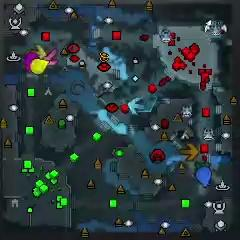p1: (195, 166, 211, 188)
p3: (25, 51, 39, 74)
p4: (31, 58, 48, 74)
x1: (45, 47, 59, 66)
x2: (28, 43, 46, 59)
x3: (128, 96, 144, 114)
x5: (180, 142, 198, 160)
